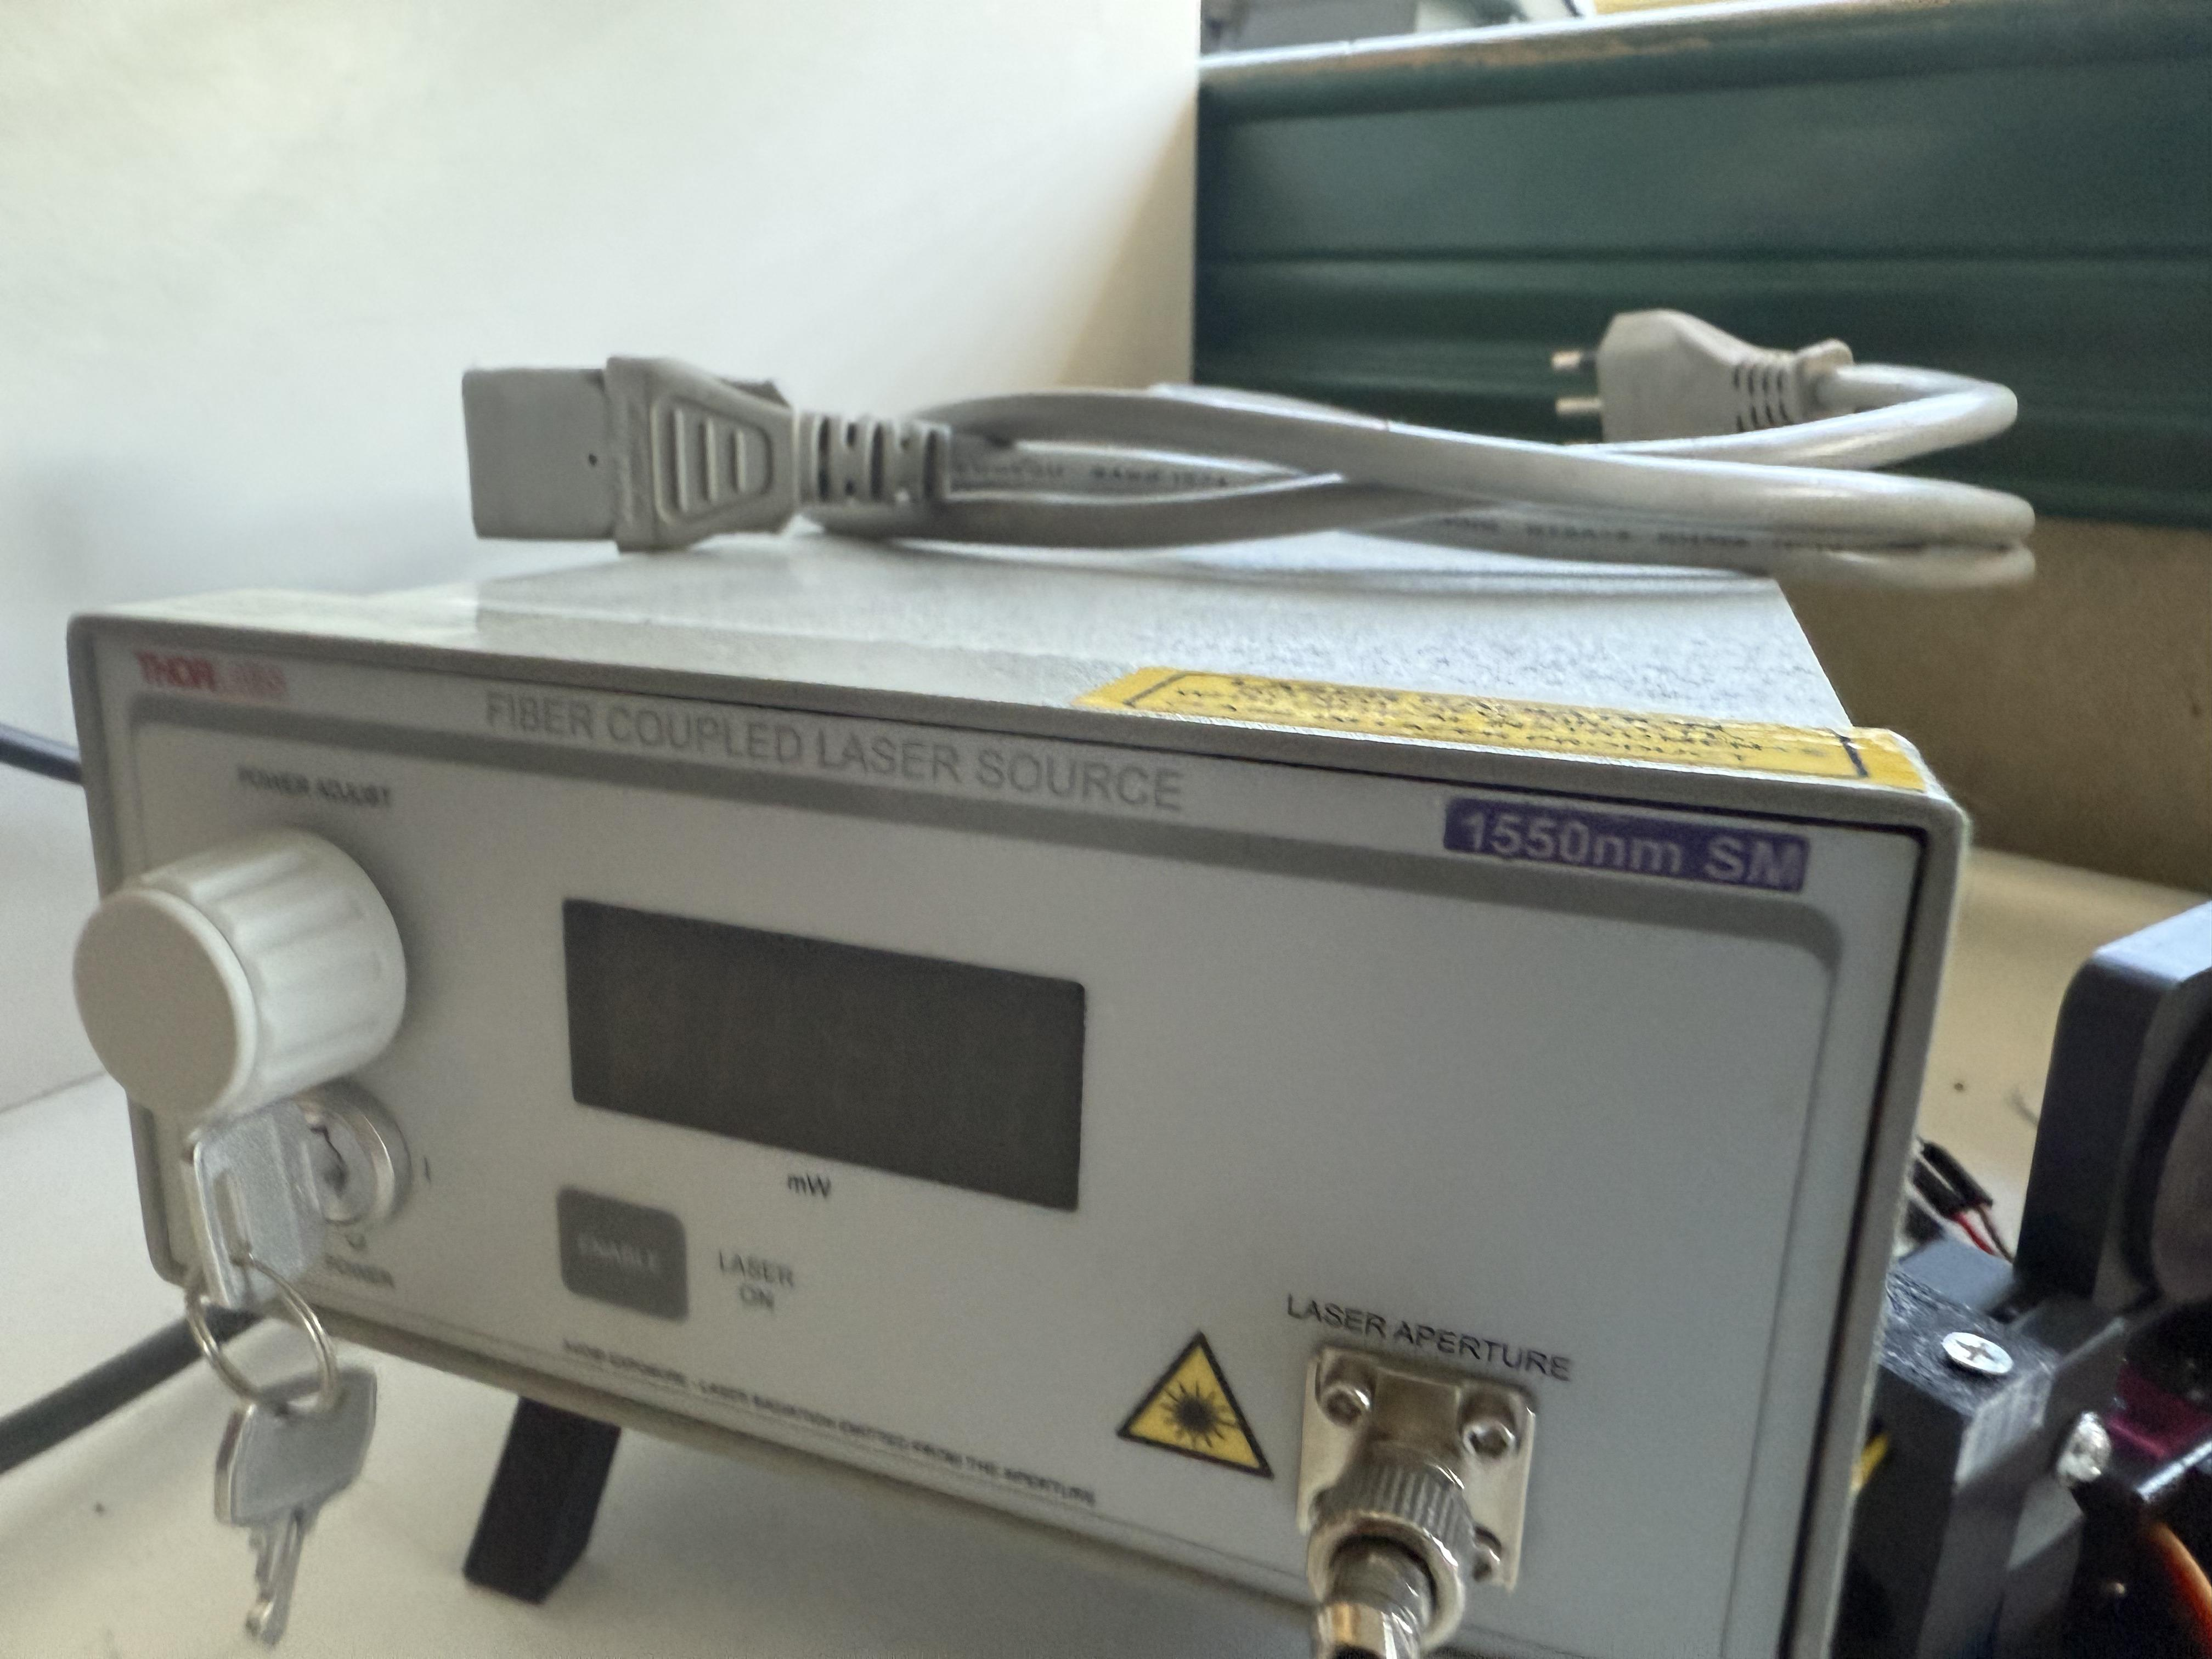laser: (23, 359, 2008, 1659)
